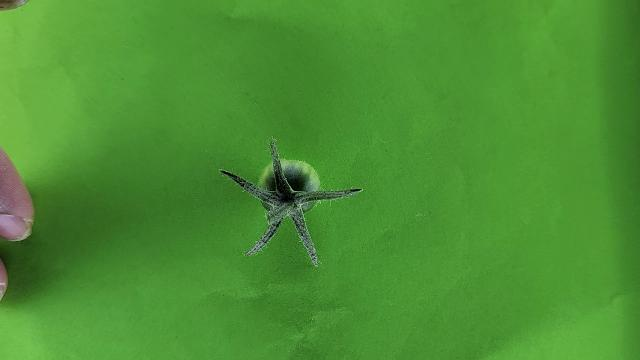Fruit Maturation: (257, 158, 322, 214)
